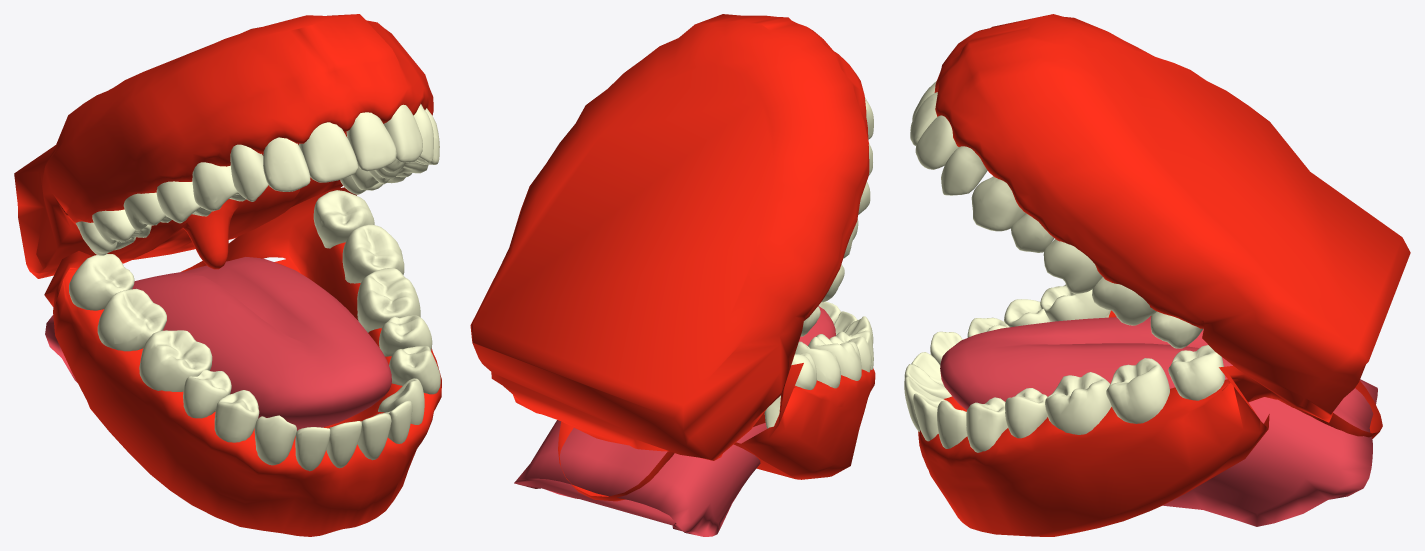
The model's file is dentaldr.gltf.
3 renders of one model, left to right at view 1: azimuth 30°, elevation 25°; view 2: azimuth 150°, elevation 25°; view 3: azimuth 270°, elevation 25°, orthographic. The views are drawn at different scales.
Parts seen in each view (by area): view 1: Gums, Gums.001, Gums.002, t46, t47, t36, t48, t37, t11, t38, t21, t12 (+21 smaller); view 2: Gums, Gums.002, Gums.001, t46, t47, t48, t45; view 3: Gums, Gums.001, Gums.002, t37, t36, t38, t24, t26, t34, t27, t46, t23 (+11 smaller).
Part boxes in pixels (x1=…): Gums: x1=14, y1=14, x2=433, y2=278; Gums.001: x1=44, y1=187, x2=441, y2=536; Gums.002: x1=45, y1=257, x2=391, y2=430; t46: x1=139, y1=330, x2=212, y2=391; t47: x1=97, y1=288, x2=166, y2=351; t36: x1=357, y1=268, x2=420, y2=332; t48: x1=69, y1=254, x2=134, y2=310; t37: x1=342, y1=224, x2=404, y2=283; t11: x1=299, y1=122, x2=358, y2=182; t38: x1=313, y1=190, x2=374, y2=248; t21: x1=346, y1=112, x2=396, y2=171; t12: x1=263, y1=137, x2=310, y2=191; Gums: x1=470, y1=14, x2=869, y2=460; Gums.002: x1=514, y1=306, x2=835, y2=536; Gums.001: x1=558, y1=363, x2=875, y2=501; t46: x1=808, y1=334, x2=861, y2=380; t47: x1=795, y1=341, x2=840, y2=388; t48: x1=764, y1=352, x2=816, y2=428; t45: x1=829, y1=336, x2=871, y2=372; Gums: x1=934, y1=14, x2=1410, y2=422; Gums.001: x1=918, y1=310, x2=1382, y2=536; Gums.002: x1=940, y1=316, x2=1377, y2=526; t37: x1=1106, y1=358, x2=1169, y2=423; t36: x1=1045, y1=372, x2=1111, y2=434; t38: x1=1168, y1=345, x2=1225, y2=400; t24: x1=971, y1=176, x2=1025, y2=231; t26: x1=1043, y1=239, x2=1102, y2=293; t34: x1=966, y1=397, x2=1007, y2=452; t27: x1=1092, y1=277, x2=1156, y2=325; t46: x1=1040, y1=284, x2=1110, y2=321; t23: x1=941, y1=146, x2=987, y2=195.
Bounding box in the file's own units: 2.07 × 2.98 × 2.85.
